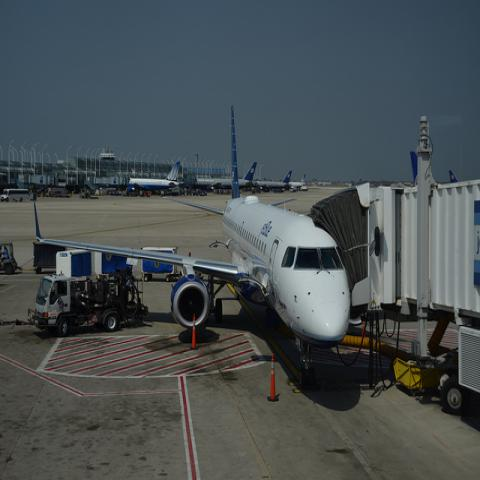truck: (28, 275, 148, 337)
